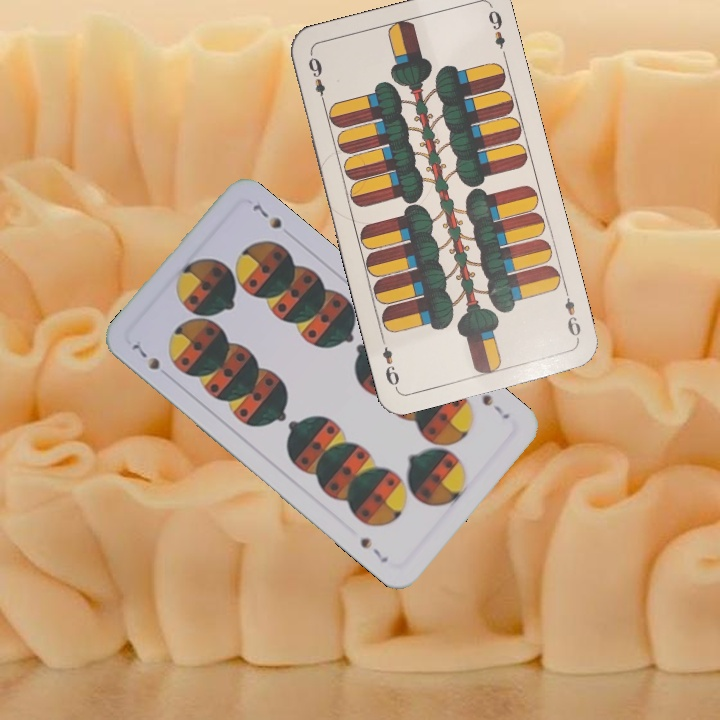E9: (560, 284, 584, 343), (304, 53, 329, 109)
S7: (128, 339, 163, 373), (478, 390, 513, 422)
